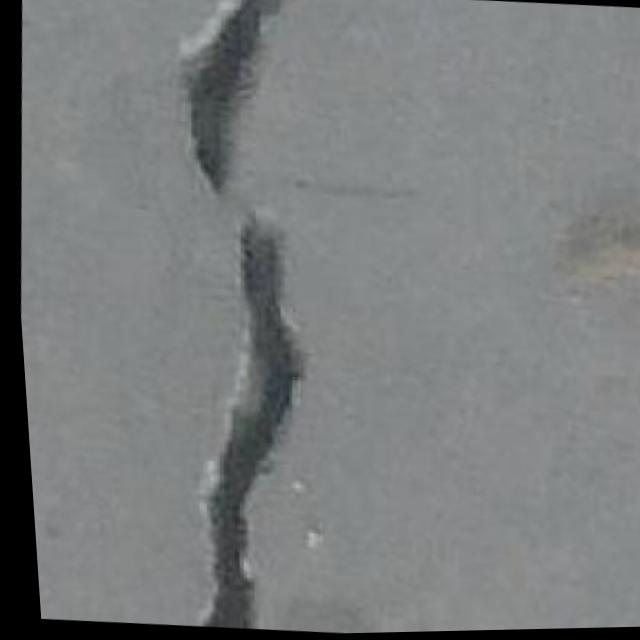Crack: (124, 0, 349, 635)
